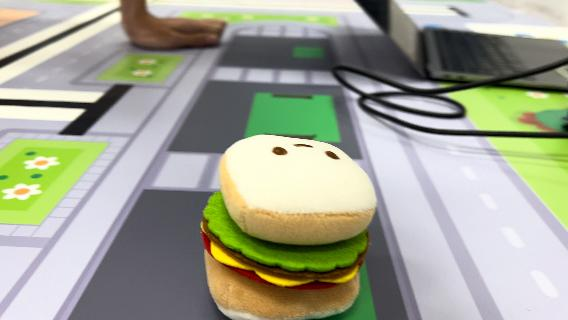sandwich: (198, 132, 378, 318)
